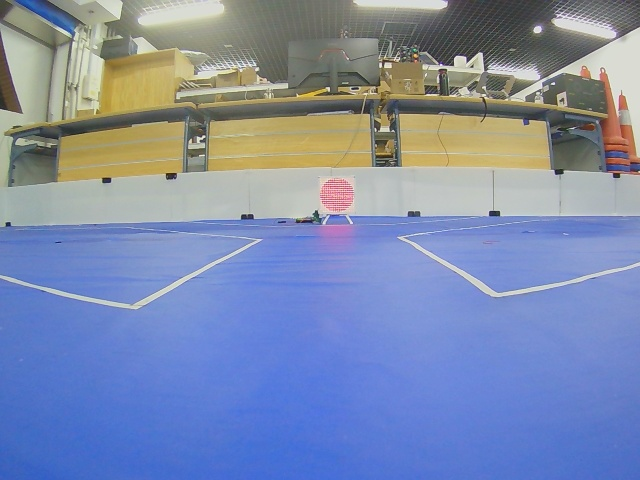red: (320, 178, 355, 214)
